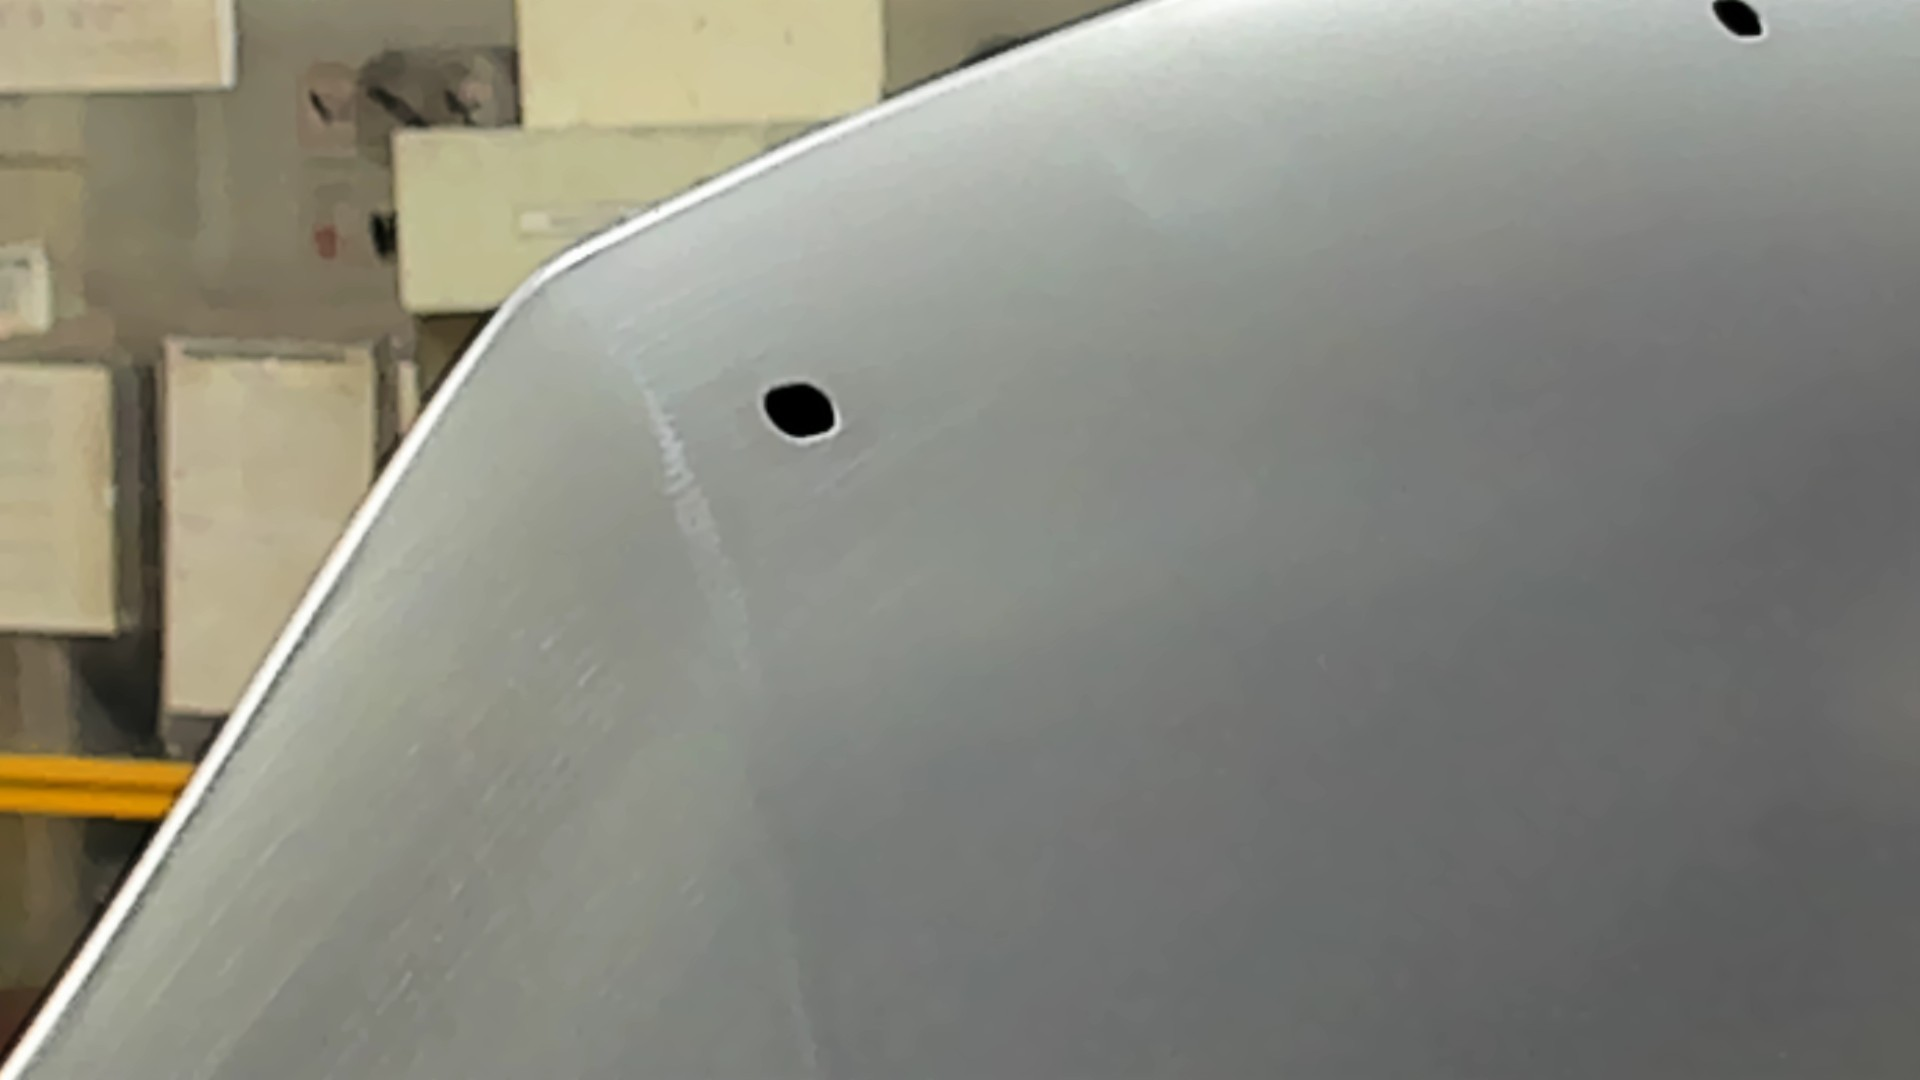amorfo: (756, 377, 852, 446), (1712, 1, 1766, 46)
